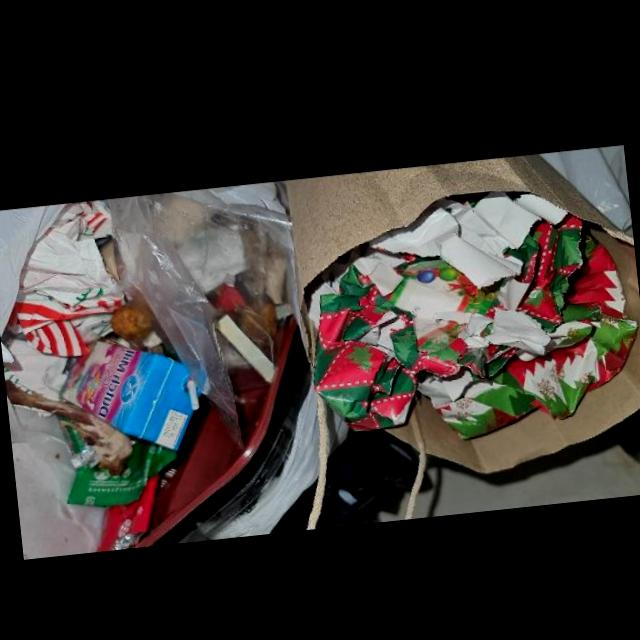giay: (308, 189, 638, 439), (7, 199, 124, 356)
thuc_an_thua: (4, 378, 133, 478)
vo_hop_sua: (64, 339, 199, 450)
